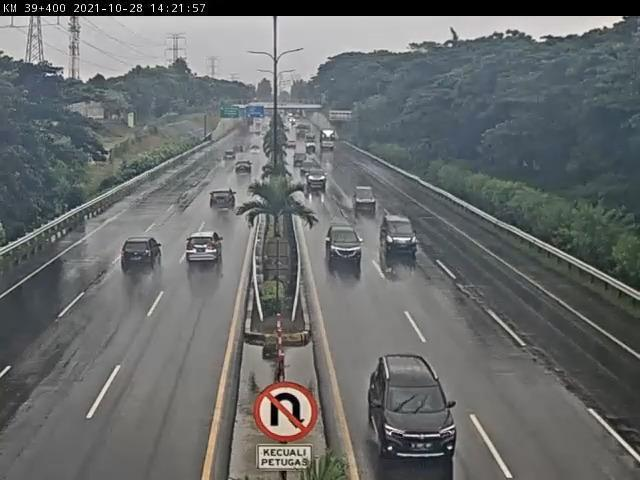car: (368, 354, 459, 460), (382, 213, 421, 257), (122, 236, 164, 275), (327, 230, 364, 269), (189, 230, 226, 265), (209, 187, 239, 215), (354, 186, 381, 212), (305, 168, 329, 191), (236, 160, 256, 178), (292, 153, 310, 170), (221, 152, 238, 167)
